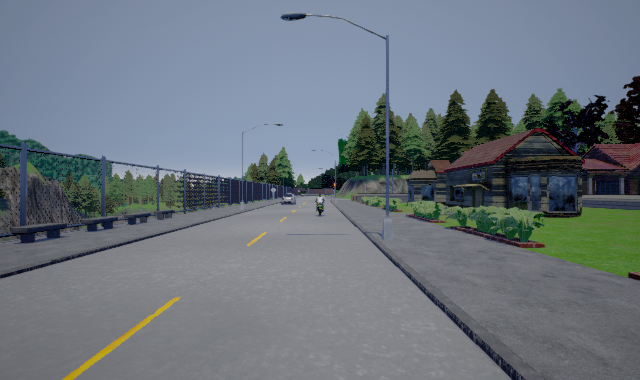motobike: (316, 194, 325, 216)
vehicle: (280, 192, 296, 205)
